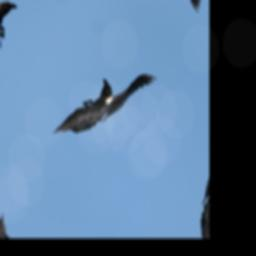Crow: (52, 39, 158, 173)
